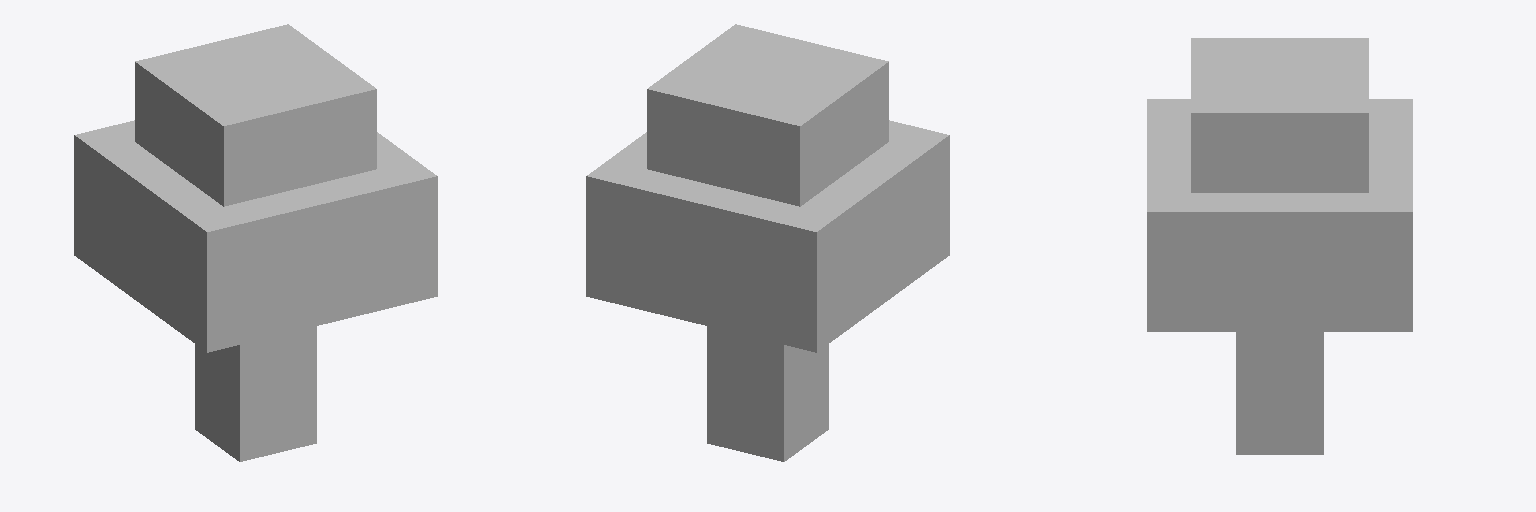
Rendered from mushroom.obj.
The picture shows the model from 3 angles: view 1: azimuth 30°, elevation 25°; view 2: azimuth 150°, elevation 25°; view 3: azimuth 270°, elevation 25°; orthographic projection.
Visible parts, largest first — view 1: cube; view 2: cube; view 3: cube.
Part boxes in pixels (x1,y1,x2,y2): cube: (74,24,437,461); cube: (586,24,949,461); cube: (1147,38,1412,454).
Size of the model in its own units: 0.375 by 0.5625 by 0.375.